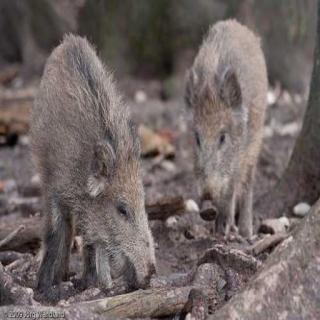Pig: (2, 28, 172, 297), (182, 6, 270, 244)
